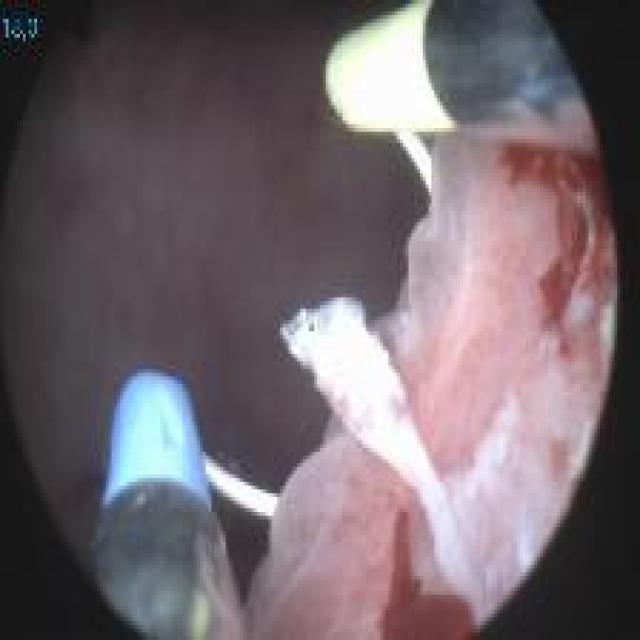color misalignment: (2, 11, 44, 42), (304, 319, 321, 341)
instrument: (322, 4, 600, 206), (95, 369, 297, 639)
